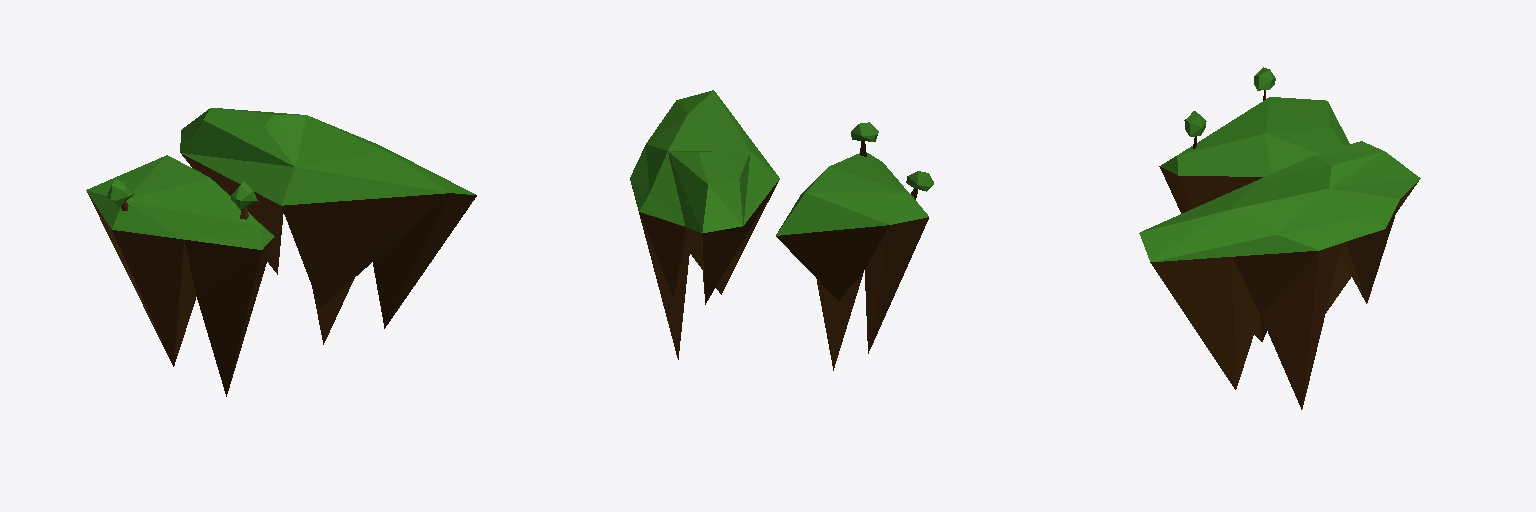
File: Illo2.obj
The picture shows the model from 3 angles: view 1: azimuth 30°, elevation 25°; view 2: azimuth 150°, elevation 25°; view 3: azimuth 270°, elevation 25°; orthographic projection.
Bounding box in the file's own units: 1.01 × 0.7202 × 0.7881.